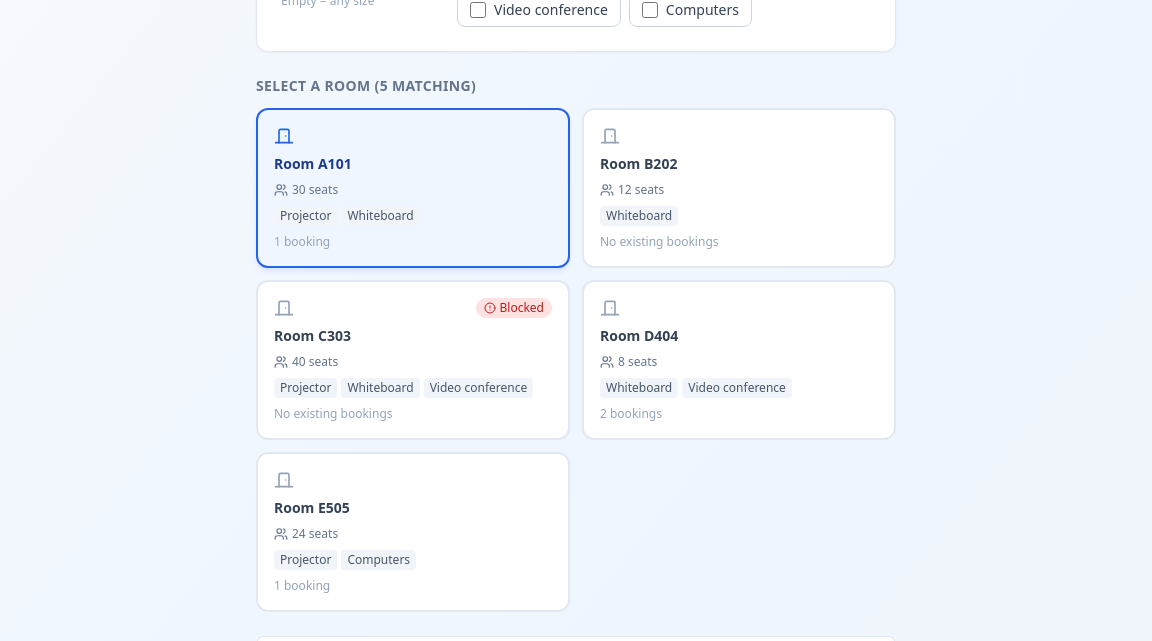
Scenario: Room selection page › UI6 (F5): when the selected room is filtered out, the result belongs to the newly selected room
(page scrolled)
Step 1. Click the button "Room D404 8 seats Whiteboard Video conference 2 bookings" → (639, 336), box top-left (582, 280), bottom-right (896, 440)
(page scrolled)
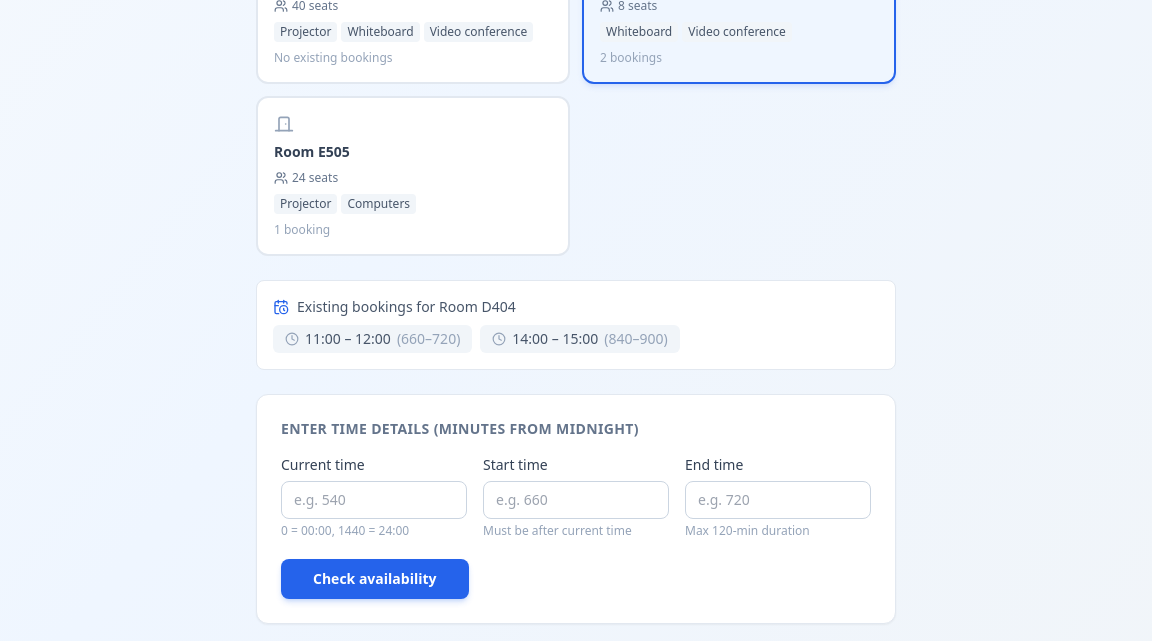
Step 2. Type "540" into the number field labelled "Current time" → (374, 500), box top-left (281, 481), bottom-right (467, 519)
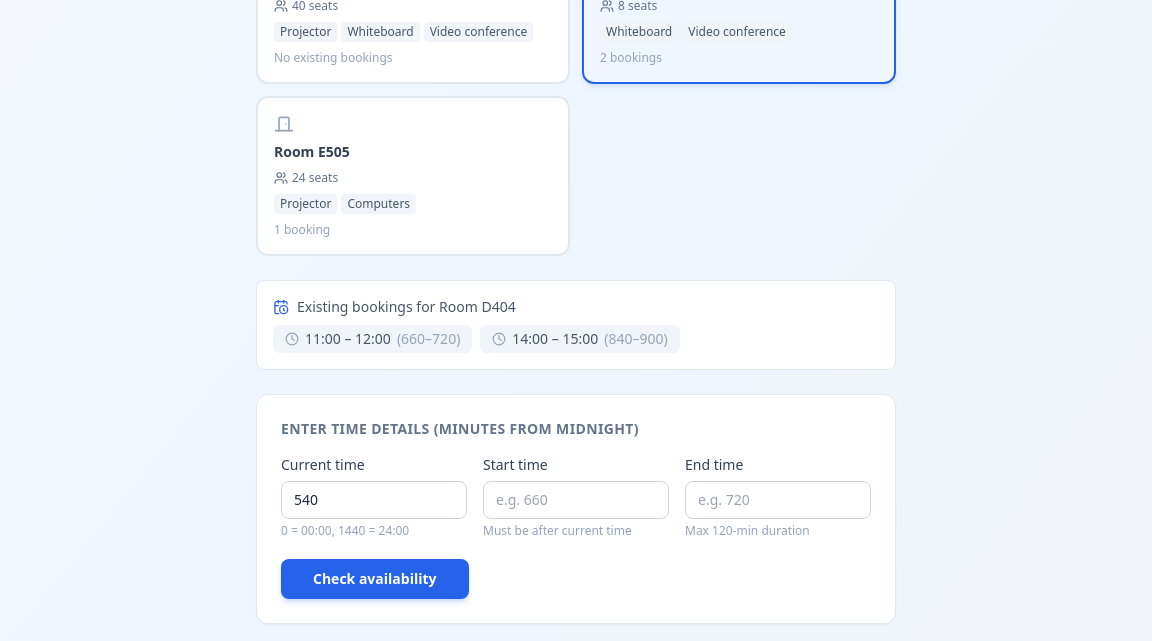
Step 3. Type "660" into the number field labelled "Start time" → (576, 500), box top-left (483, 481), bottom-right (669, 519)
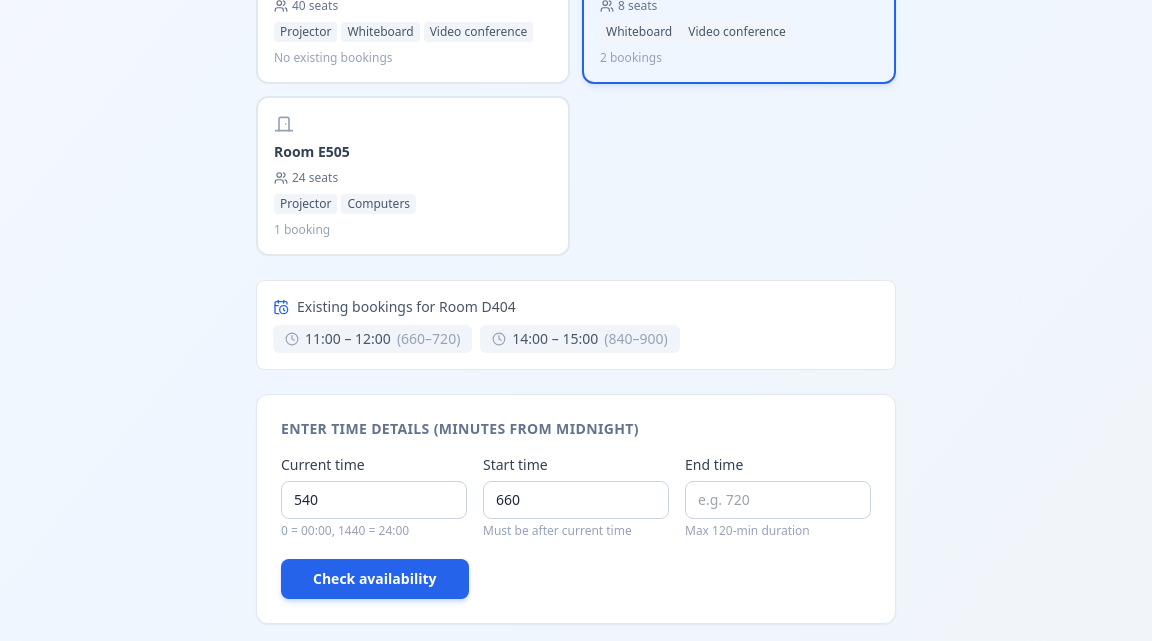
Step 4. Type "720" into the number field labelled "End time" → (778, 500), box top-left (685, 481), bottom-right (871, 519)
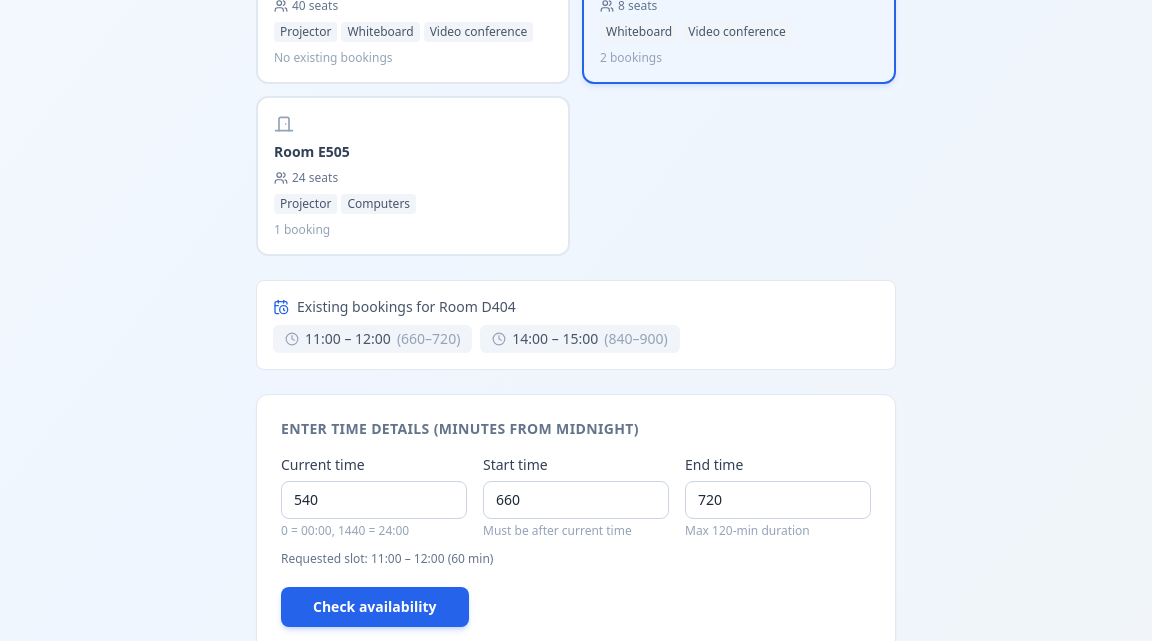
Step 5. Click the button "Check availability" → (375, 607), box top-left (281, 587), bottom-right (468, 627)
(page scrolled)
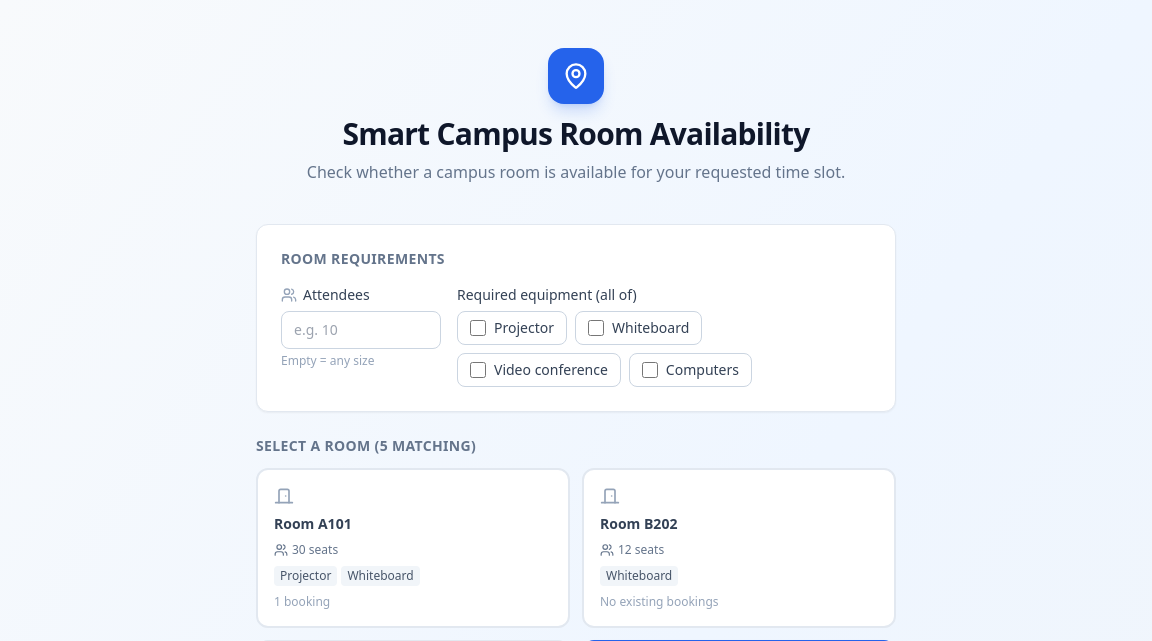
Step 6. Type "20" into the number field labelled "Attendees" → (361, 330), box top-left (281, 311), bottom-right (441, 349)
(page scrolled)
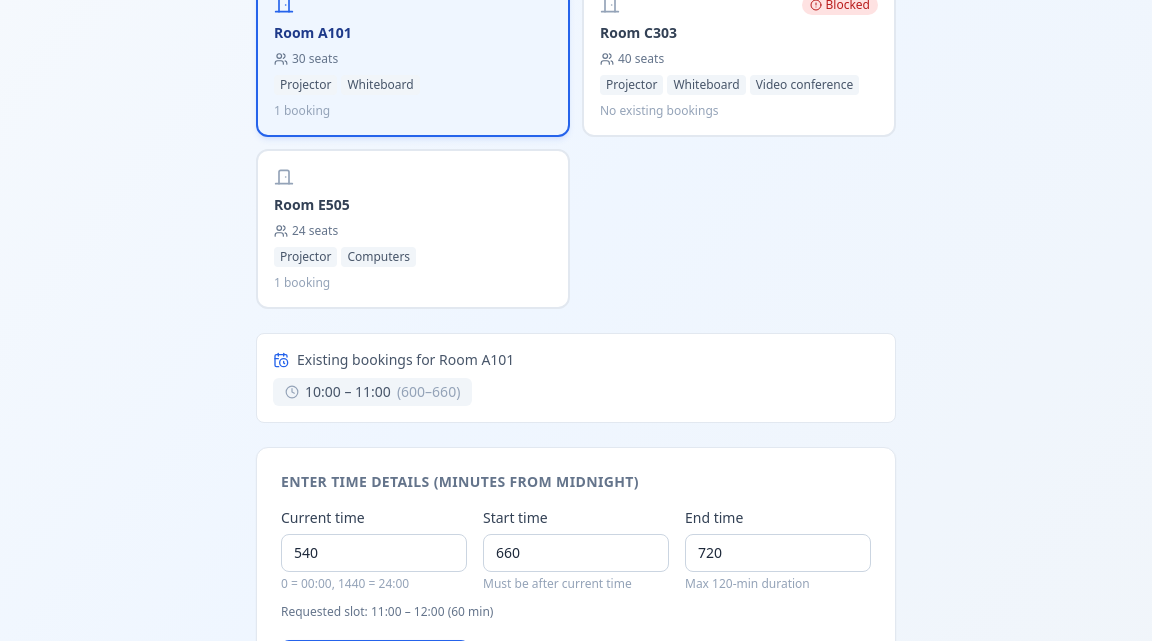
Expected: the text "Existing bookings for Room A101" is shown, top-left (273, 350), bottom-right (514, 369)
